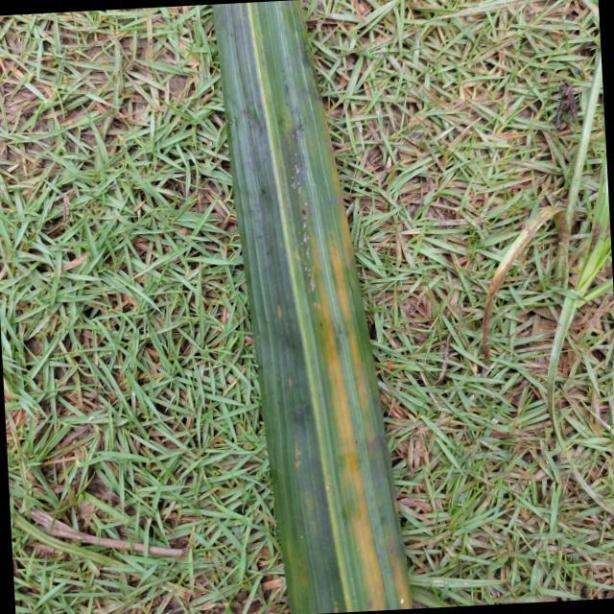Megnesium: (208, 0, 412, 614)
